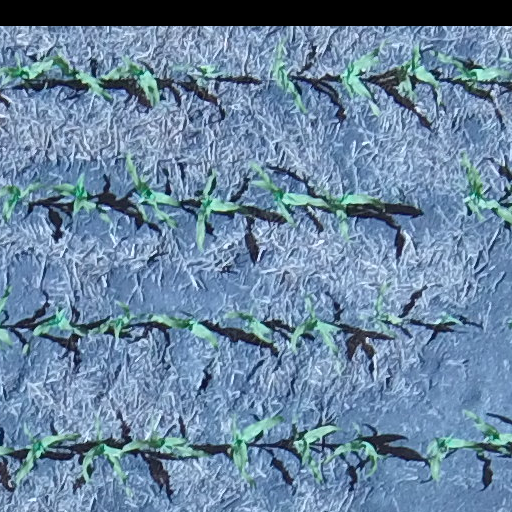planta: (248, 162, 331, 225), (125, 149, 183, 230), (12, 425, 83, 486), (117, 415, 207, 459), (225, 414, 281, 484), (288, 414, 344, 482), (336, 41, 385, 118), (196, 169, 244, 247), (435, 52, 511, 101), (312, 189, 385, 238), (389, 43, 442, 107), (45, 172, 110, 222), (99, 55, 160, 107), (288, 297, 341, 356), (80, 416, 126, 482), (269, 37, 306, 111), (56, 52, 111, 100), (427, 437, 484, 480), (325, 438, 388, 476), (149, 314, 218, 348), (227, 310, 279, 352), (174, 64, 259, 89), (90, 302, 143, 338), (31, 308, 87, 337), (374, 283, 401, 338), (434, 313, 462, 324)
